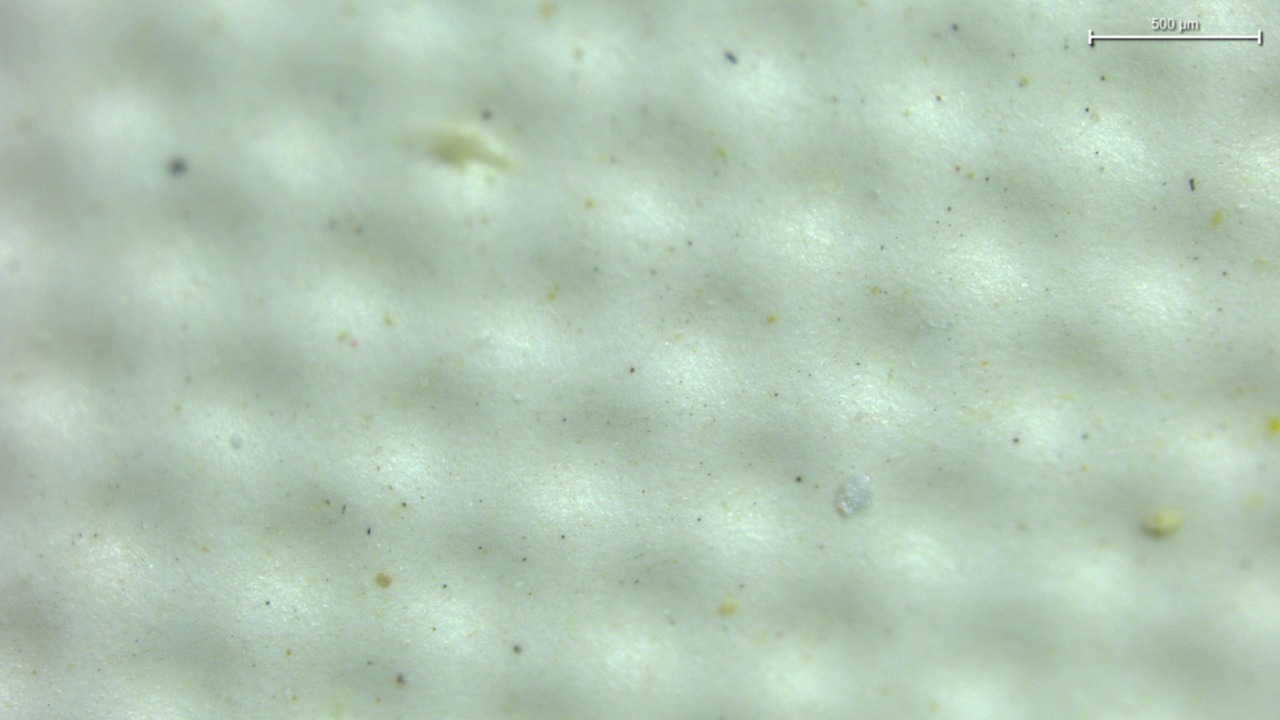microplastic_fragment: (835, 475, 873, 516)
